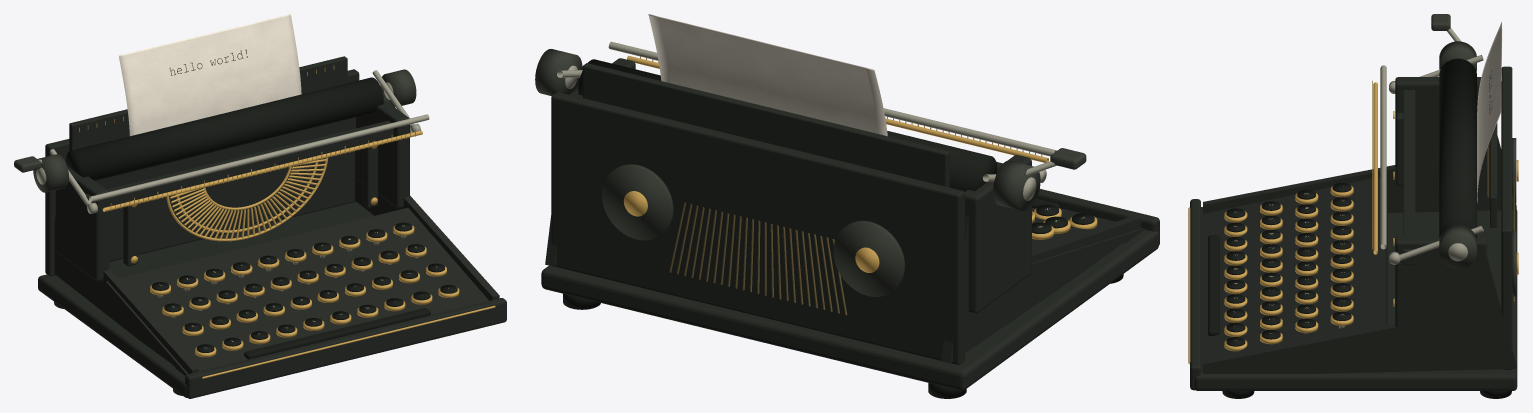
Rendered from typewriter.glb.
3 renders of one model, left to right at view 1: azimuth 30°, elevation 25°; view 2: azimuth 150°, elevation 25°; view 3: azimuth 270°, elevation 25°, orthographic. The views are drawn at different scales.
Visible parts, largest first — view 1: EXPORT_Black steel keyboard chassis, EXPORT_Black key face, EXPORT_Letter paper, EXPORT_Brass graduated carriage rail, EXPORT_Arm pivot, EXPORT_Carriage knob; view 2: EXPORT_Black steel keyboard chassis, EXPORT_Letter paper, EXPORT_Carriage knob, EXPORT_Rear escapement, EXPORT_Black key face, EXPORT_Brass graduated carriage rail, EXPORT_Arm pivot; view 3: EXPORT_Black steel keyboard chassis, EXPORT_Black key face, EXPORT_Brass graduated carriage rail, EXPORT_Carriage knob, EXPORT_Arm pivot, EXPORT_Letter paper.
Boxes of the visible parts, left/top/right/bottom form: EXPORT_Black steel keyboard chassis: left=38, top=56, right=506, bottom=398; EXPORT_Black key face: left=54, top=77, right=457, bottom=395; EXPORT_Letter paper: left=119, top=14, right=301, bottom=136; EXPORT_Brass graduated carriage rail: left=79, top=65, right=495, bottom=378; EXPORT_Arm pivot: left=36, top=70, right=429, bottom=317; EXPORT_Carriage knob: left=14, top=69, right=416, bottom=192; EXPORT_Black steel keyboard chassis: left=541, top=58, right=1159, bottom=390; EXPORT_Letter paper: left=648, top=14, right=887, bottom=136; EXPORT_Carriage knob: left=535, top=49, right=1086, bottom=296; EXPORT_Rear escapement: left=669, top=202, right=847, bottom=315; EXPORT_Black key face: left=563, top=59, right=1123, bottom=398; EXPORT_Brass graduated carriage rail: left=623, top=56, right=1097, bottom=272; EXPORT_Arm pivot: left=557, top=41, right=1056, bottom=239; EXPORT_Black steel keyboard chassis: left=1190, top=66, right=1517, bottom=390; EXPORT_Black key face: left=1208, top=58, right=1511, bottom=398; EXPORT_Brass graduated carriage rail: left=1188, top=80, right=1518, bottom=364; EXPORT_Carriage knob: left=1431, top=14, right=1516, bottom=296; EXPORT_Arm pivot: left=1304, top=28, right=1483, bottom=333; EXPORT_Letter paper: left=1477, top=22, right=1502, bottom=203.
Bounding box in the file's own units: 4.09 × 2.28 × 2.7.
Materials: 9 (2 with a texture image).
